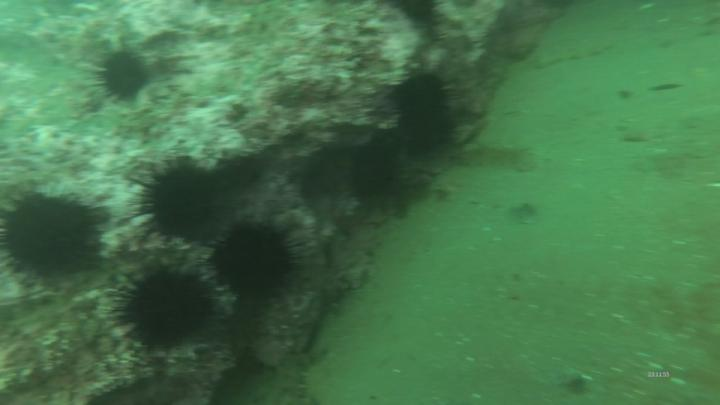echinus: (1, 189, 117, 290), (123, 157, 234, 250), (110, 259, 222, 348), (205, 218, 314, 302), (390, 67, 468, 158), (91, 45, 160, 110)
